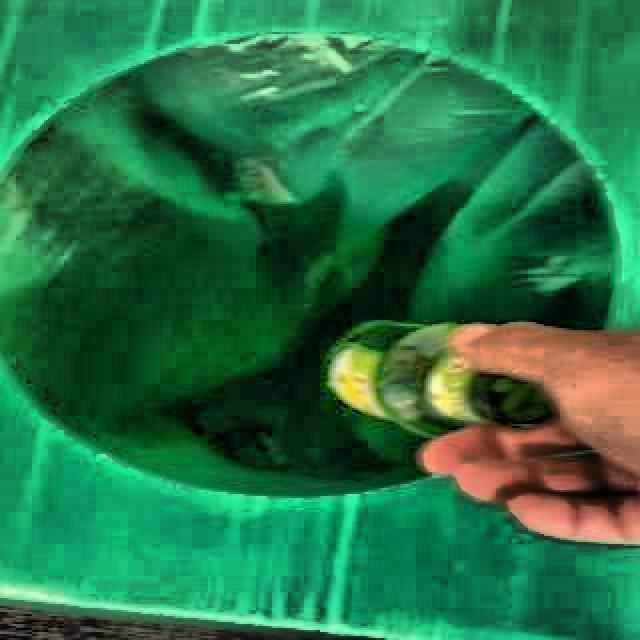glass: (328, 322, 555, 437)
